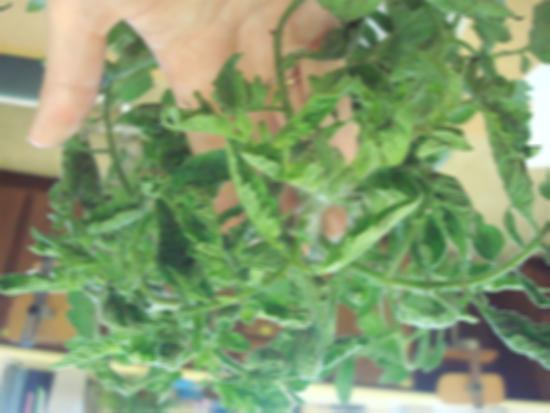Tomato leaf mosaic virus: (309, 197, 420, 281), (228, 142, 295, 262), (272, 91, 347, 149), (178, 184, 224, 271), (468, 211, 510, 264), (319, 333, 372, 370)
